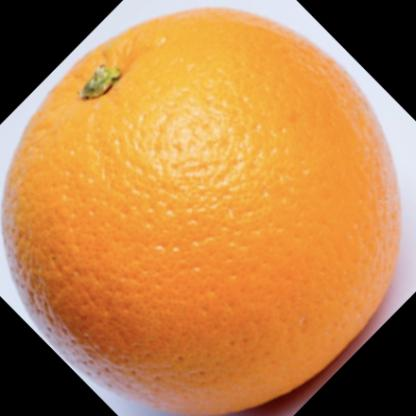fresh: (6, 9, 402, 416)
